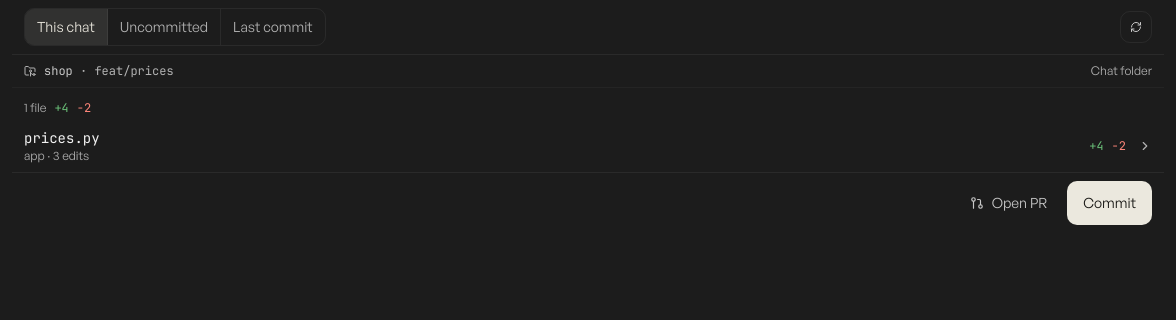
Scenario: Revert file › a file MC already put back shows 'Reverted' instead of the button
Click the button with test id "chat-change-row" at (62, 138), box [12,120,1164,172]
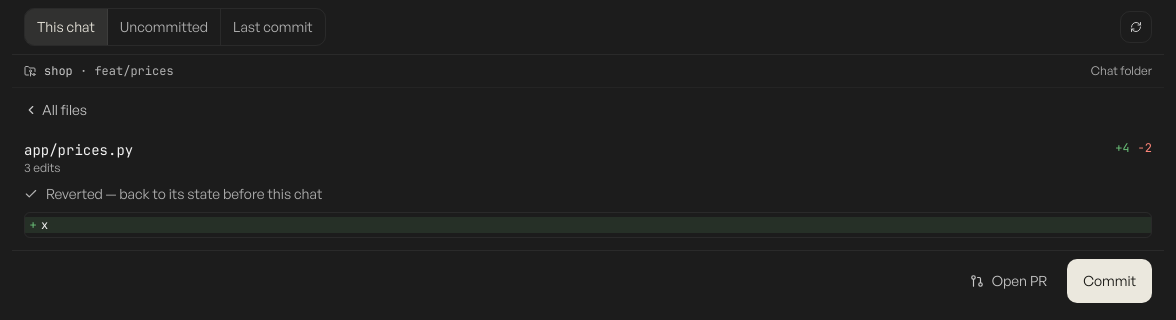
Check: the element with test id "chat-change-reverted" is shown, box [24,185,322,202]
